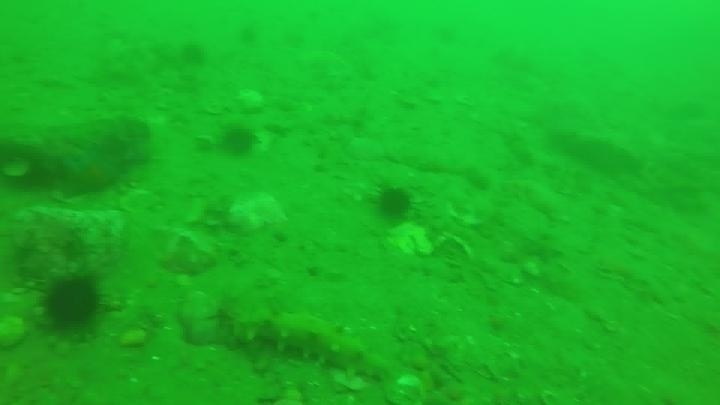echinus: (37, 271, 105, 335), (373, 184, 415, 223), (219, 124, 259, 158), (178, 40, 208, 68)
holothurian: (227, 308, 389, 383)
